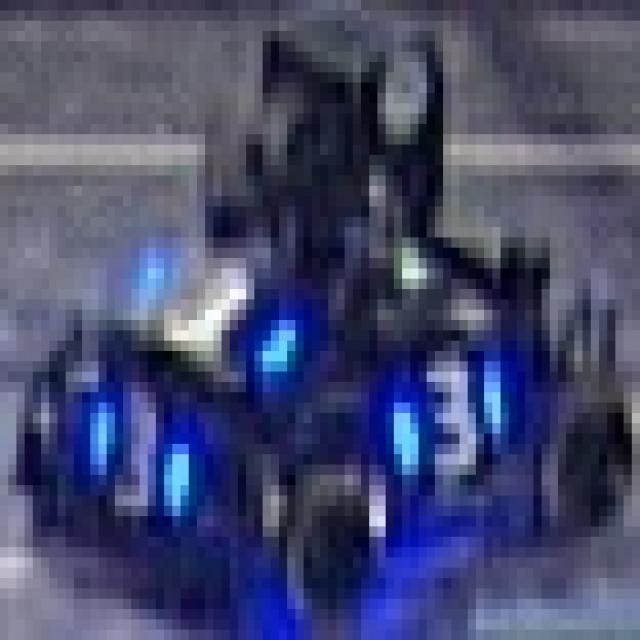B3: (369, 340, 517, 526), (66, 382, 213, 547)
